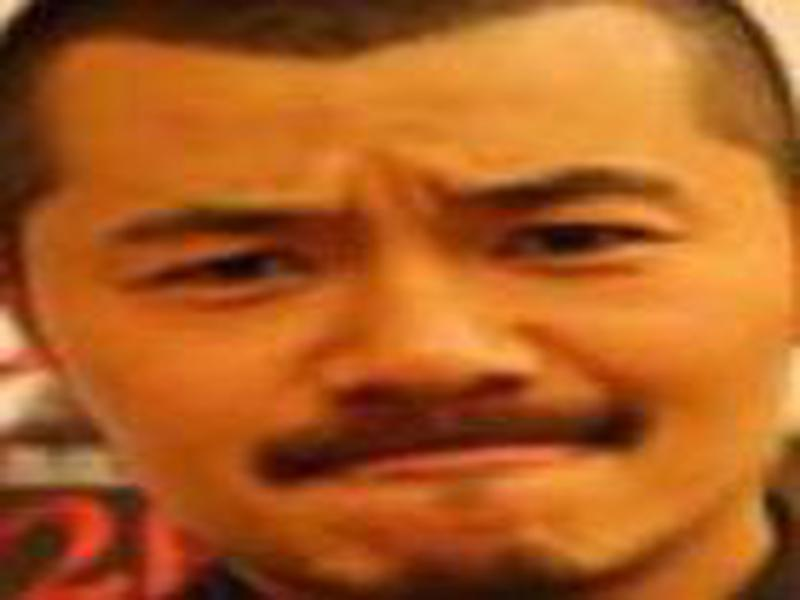without_mask: (12, 43, 783, 585)
